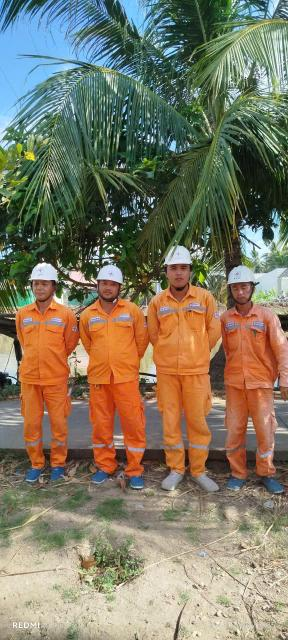helmet: (27, 258, 61, 289), (220, 264, 259, 288), (162, 242, 195, 270), (91, 265, 129, 285)
shoes: (189, 471, 222, 497), (17, 457, 47, 482), (256, 472, 288, 495), (222, 470, 249, 494), (160, 466, 184, 491), (48, 461, 66, 484), (128, 472, 146, 492), (91, 467, 108, 486)
